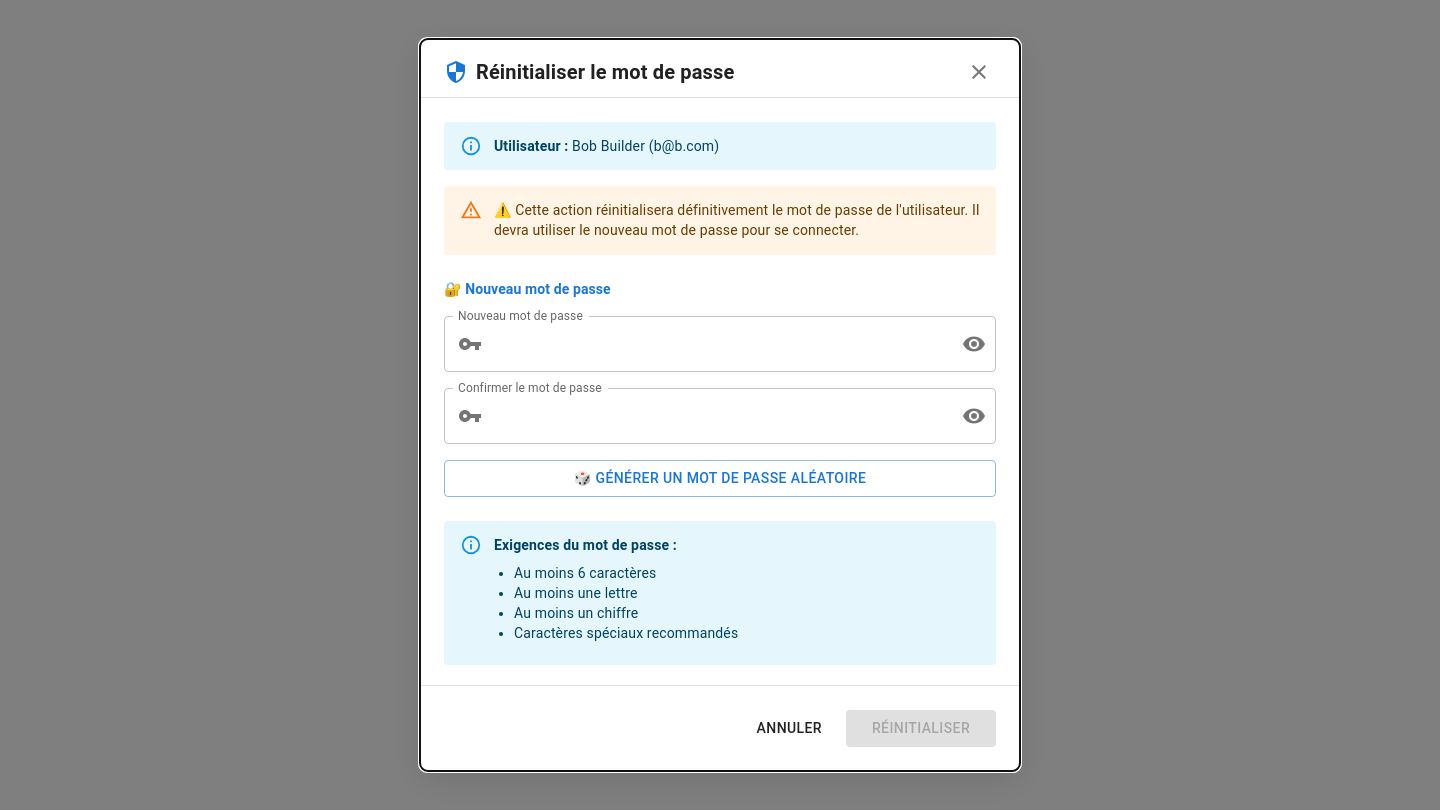
PasswordResetDialog — validation › requires both letters and digits
Type "abcdefgh" into the password field labelled "Nouveau mot de passe" at (718, 344), box [490,316,946,372]
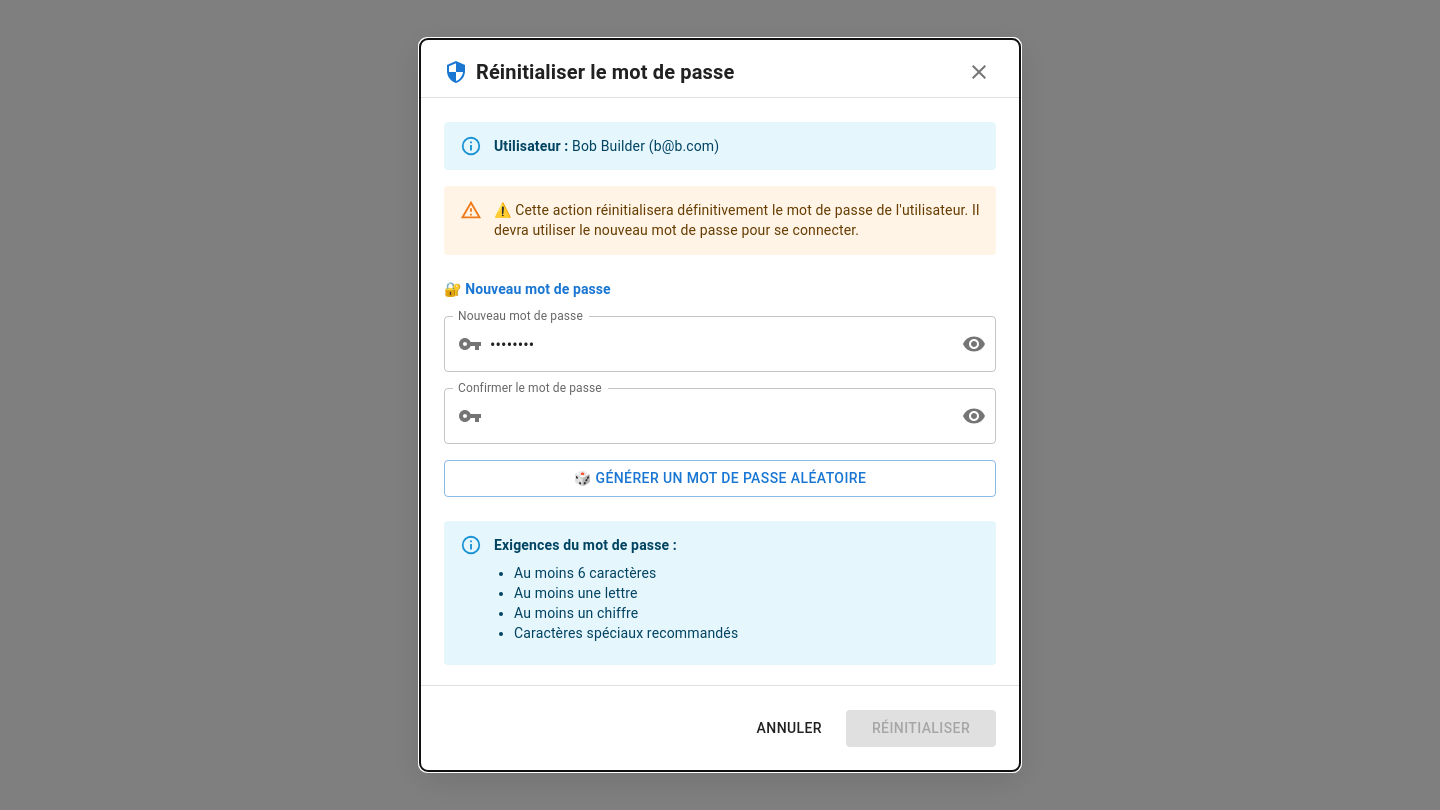
Type "abcdefgh" into the password field labelled "Confirmer le mot de passe" at (718, 416), box [490,388,946,444]
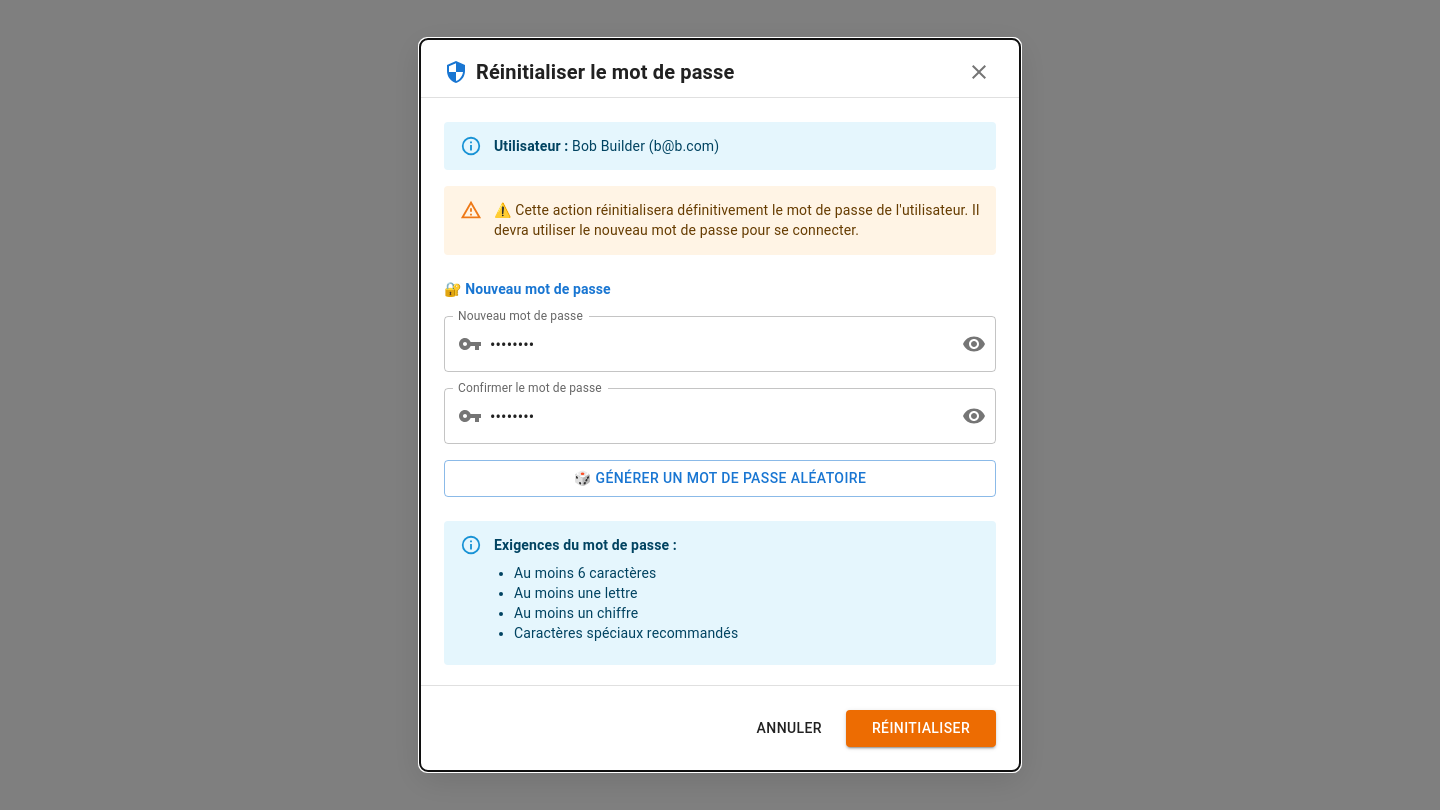
Click the button "Réinitialiser" at (921, 728), box [846,710,996,746]
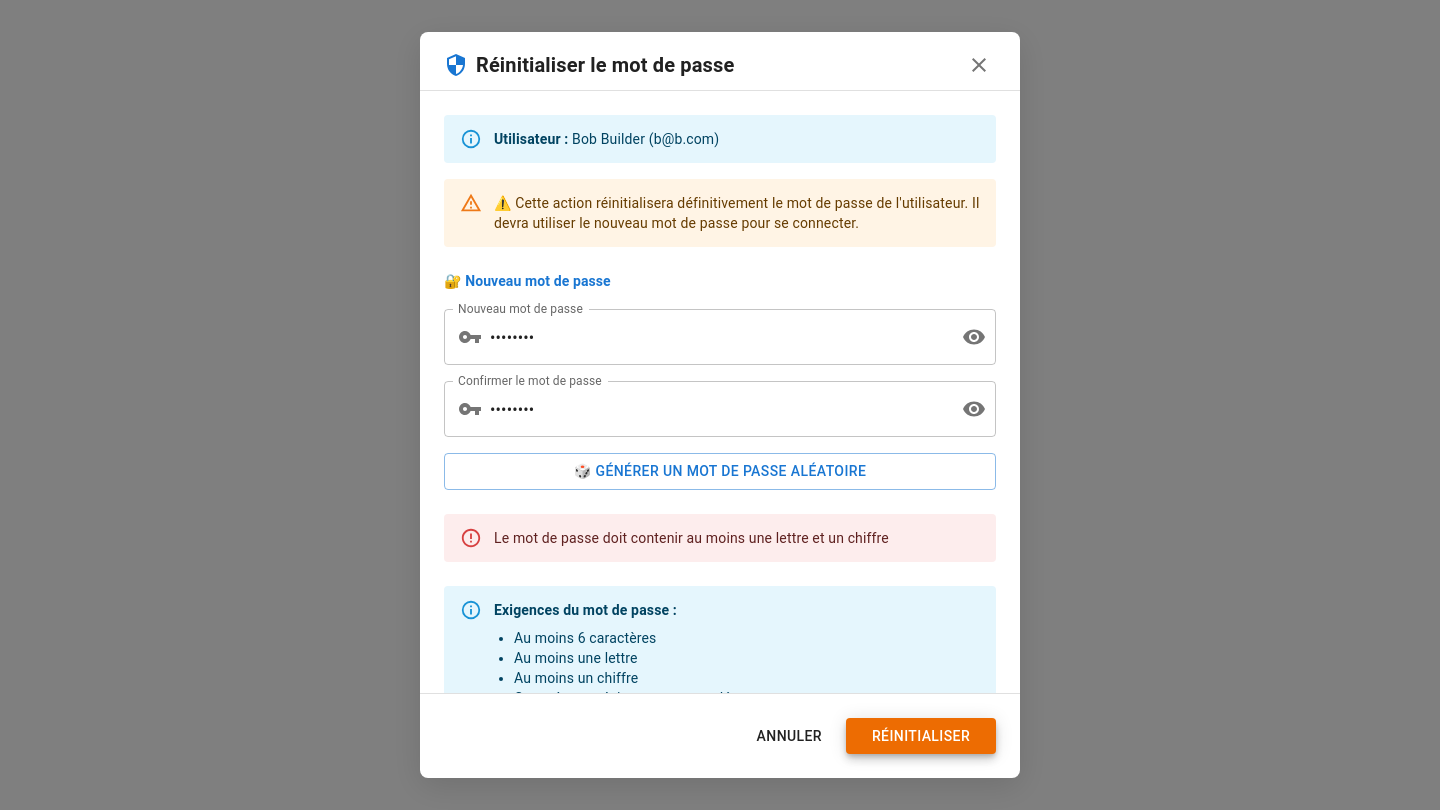
Result: the text "au moins une lettre et un chiffre" is shown at [494,530,889,546]
